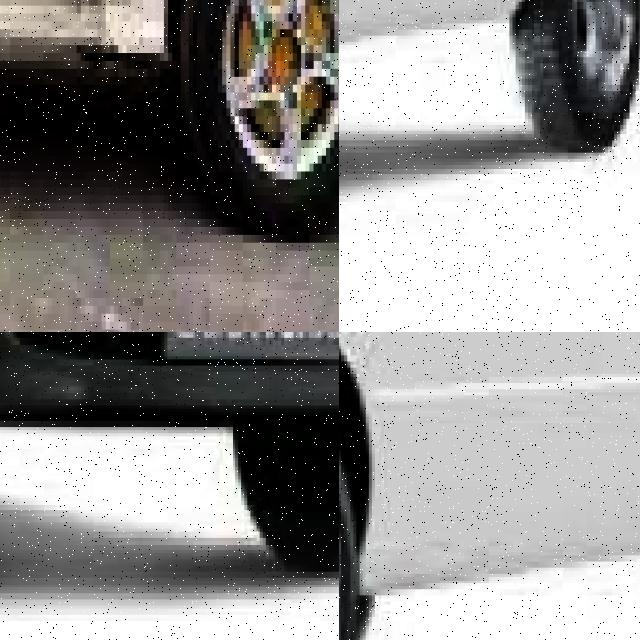car: (339, 332, 640, 640), (0, 332, 339, 602), (339, 0, 640, 266), (0, 0, 339, 211)
